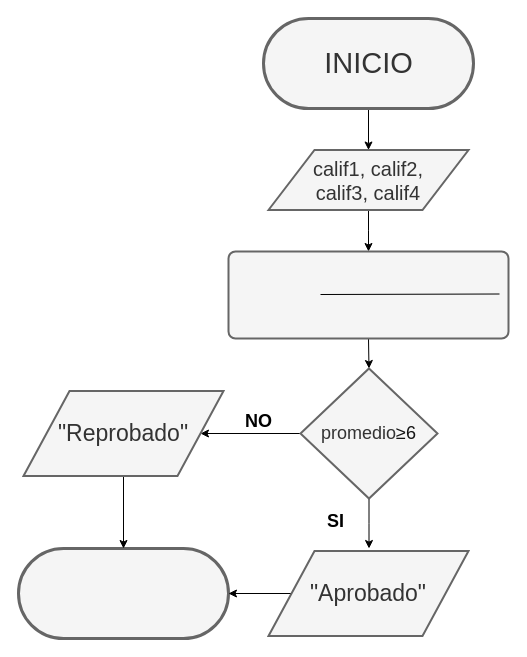
Image size: 527x657. Some labels were removed from this diagram. Here are the shapes that lost their labels. From the top down, the box of each, then its label:
(227, 250, 509, 339): promedio = calif1, calif2, calif3, calif4 4
(16, 546, 230, 640): FIN
